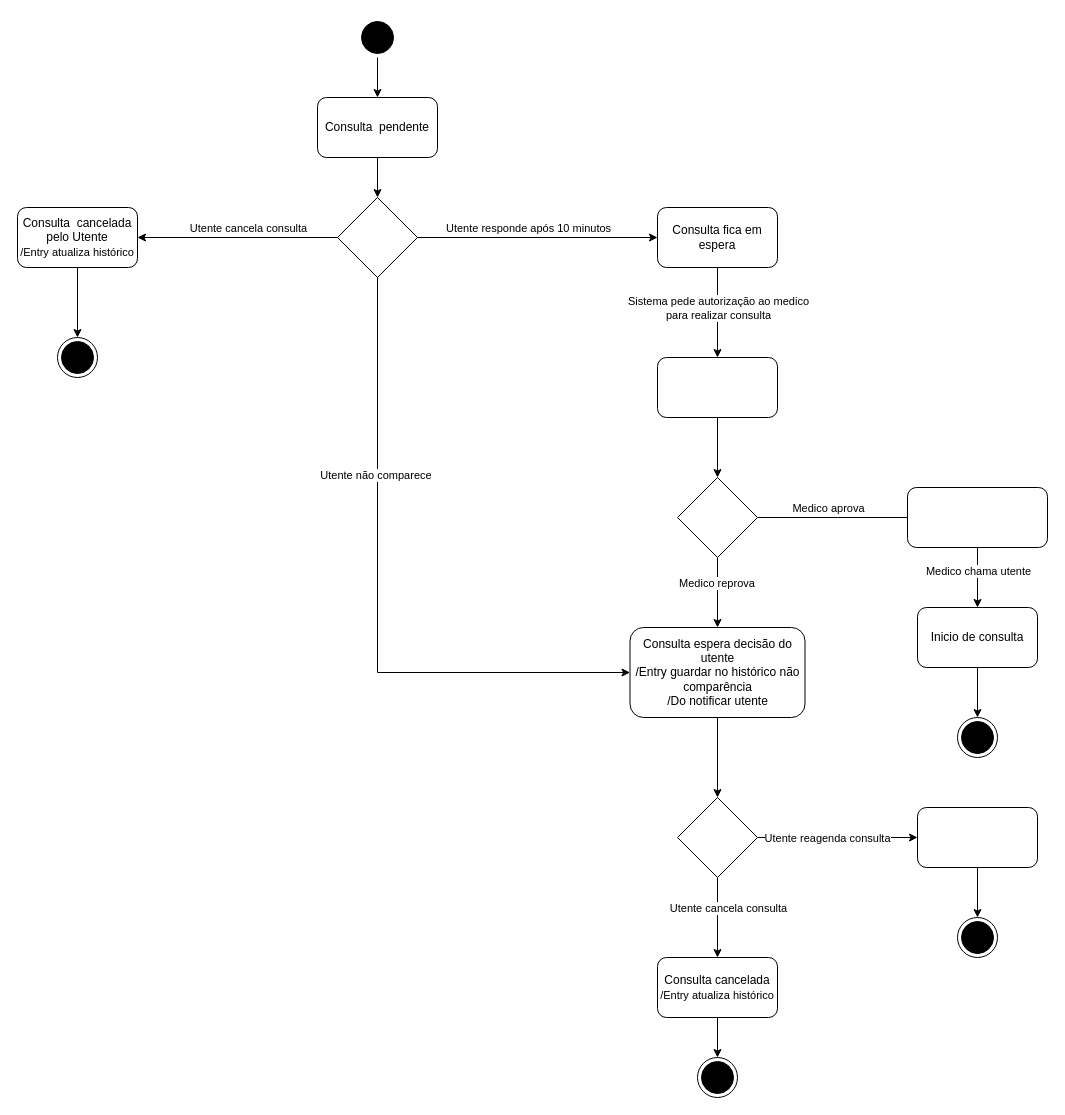
The diagram is 1065 pixels wide and 1115 high, and some of its shapes have lost their labels. The shapes that lost their labels are listed below. From the top down, each one's centre as x and y in pixels, then its label:
[717,387]: Consulta aguarda resposta
[977,517]: Consulta ativa /Entry atualiza histórico
[977,837]: Consulta reagendada /Entry atualiza histórico
